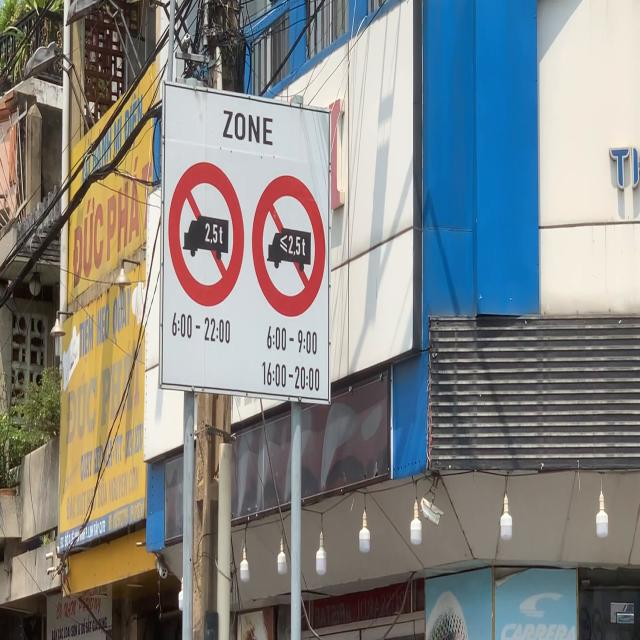Cam con lai: (168, 161, 245, 308), (251, 175, 326, 318)
